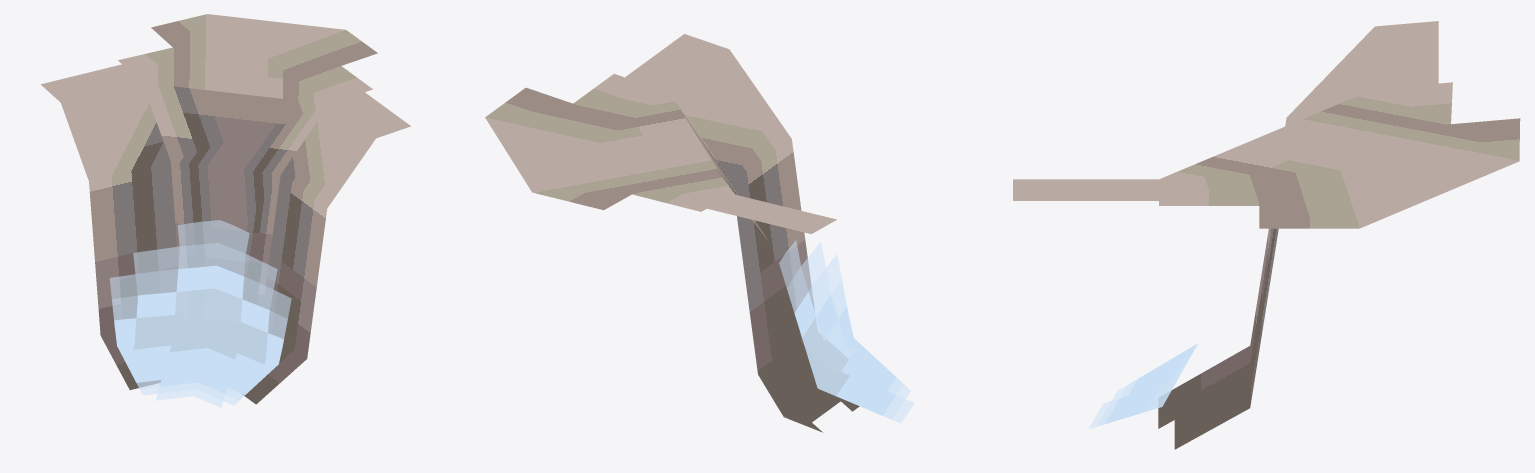
The picture shows the model from 3 angles, left to right: view 1: azimuth 30°, elevation 25°; view 2: azimuth 150°, elevation 25°; view 3: azimuth 270°, elevation 25°; orthographic projection. The views are drawn at different scales.
Bounding box in the file's own units: 0.7236 × 0.6892 × 0.7236.
2 materials, 2 textured.
